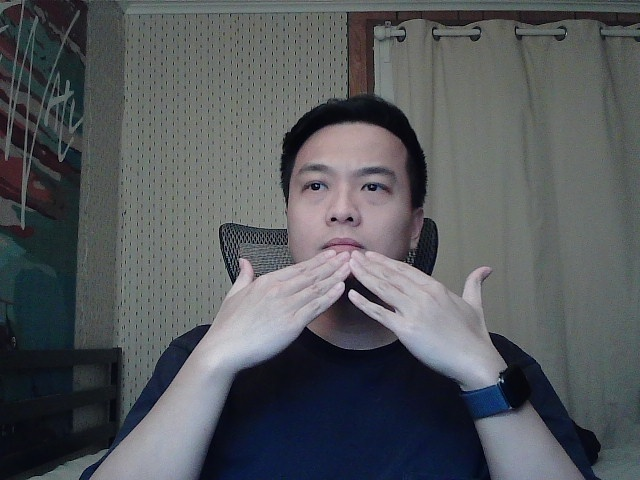Thank You: (213, 242, 514, 376)
